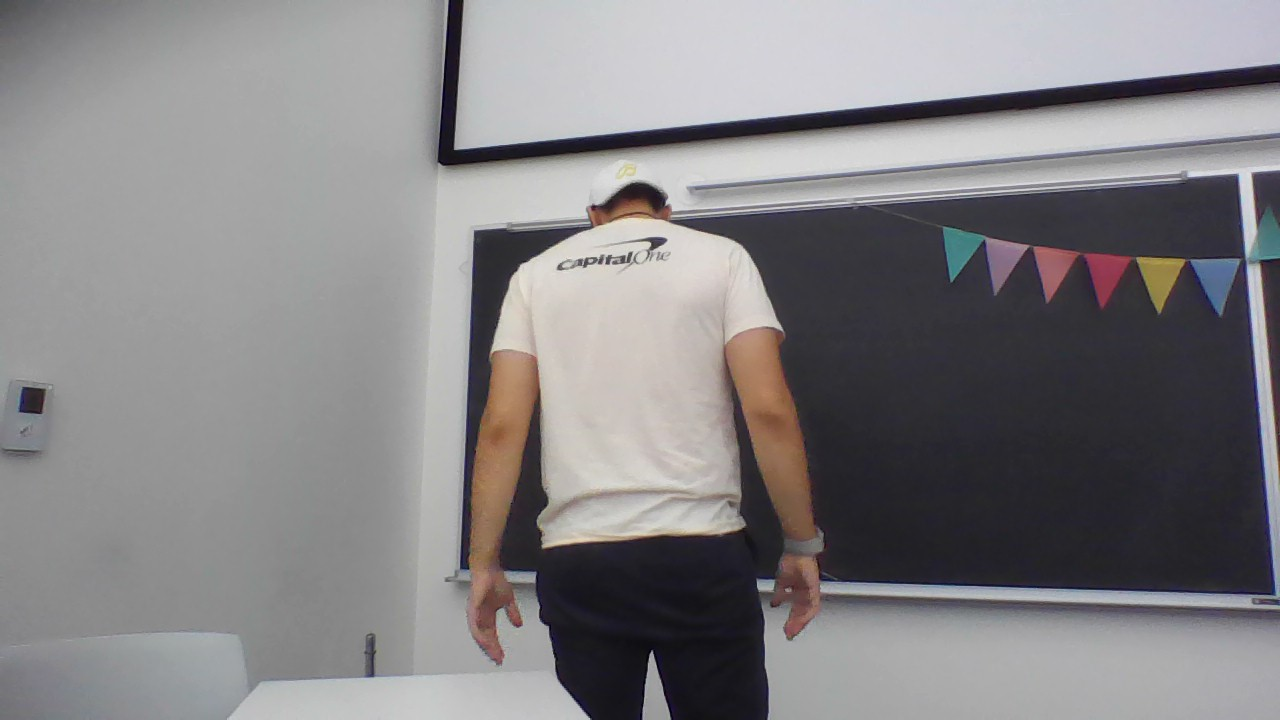height_frame: (493, 159, 818, 714)
hip_frame: (534, 536, 755, 557)
shoulder_frame: (514, 262, 759, 277)
waist_frame: (544, 426, 744, 451)
